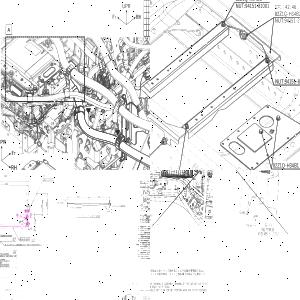PartNumber: (272, 161, 299, 168), (274, 10, 300, 16), (245, 3, 269, 9), (284, 77, 300, 84), (284, 17, 300, 23), (235, 0, 263, 2), (42, 178, 52, 180), (2, 235, 11, 237), (19, 238, 28, 240), (19, 237, 28, 239), (140, 290, 149, 292), (0, 253, 7, 255), (0, 265, 7, 267), (0, 263, 7, 265), (143, 245, 150, 247), (143, 243, 150, 245), (143, 297, 150, 299), (143, 296, 150, 298), (42, 180, 52, 181), (146, 251, 150, 253), (0, 260, 7, 261)
